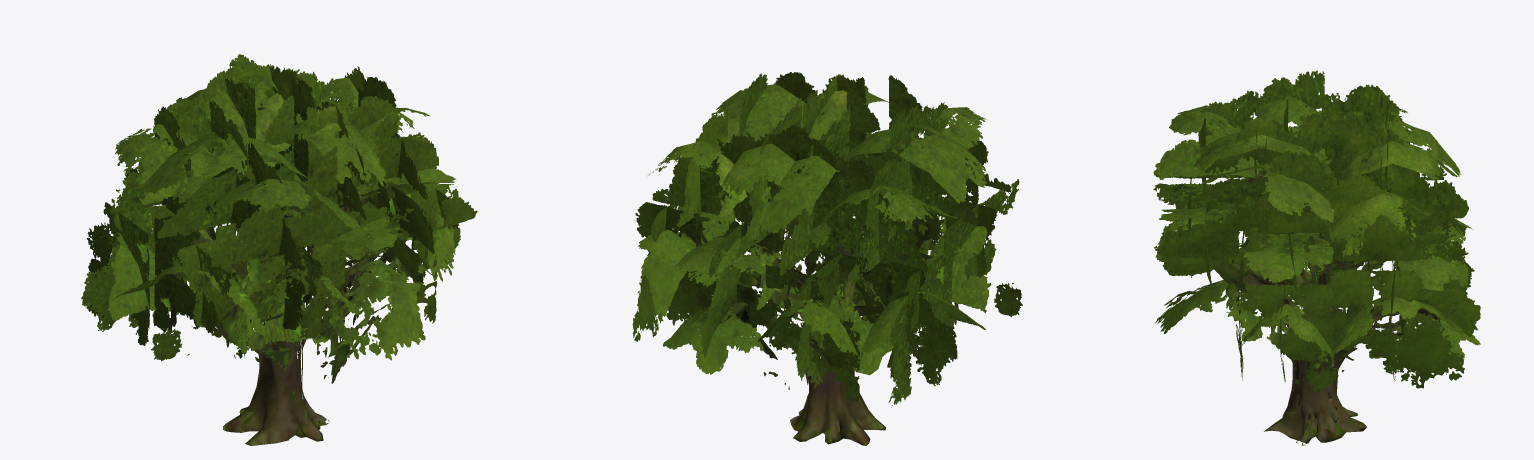
The model's file is tree-4949-mid.glb.
The picture shows the model from 3 angles, left to right: view 1: azimuth 30°, elevation 25°; view 2: azimuth 150°, elevation 25°; view 3: azimuth 270°, elevation 25°; orthographic projection. The views are drawn at different scales.
Parts seen in each view (by area): view 1: Foliage, Wood; view 2: Foliage, Wood; view 3: Foliage, Wood.
Part boxes in pixels (x1,y1,x2,y2): Foliage: (81, 54, 477, 383); Wood: (214, 103, 391, 445); Foliage: (632, 72, 1022, 405); Wood: (718, 225, 935, 445); Foliage: (1153, 70, 1480, 391); Wood: (1229, 171, 1440, 445).
Size of the model in its own units: 14.42 by 12.99 by 13.27.
2 materials, 2 textured.
